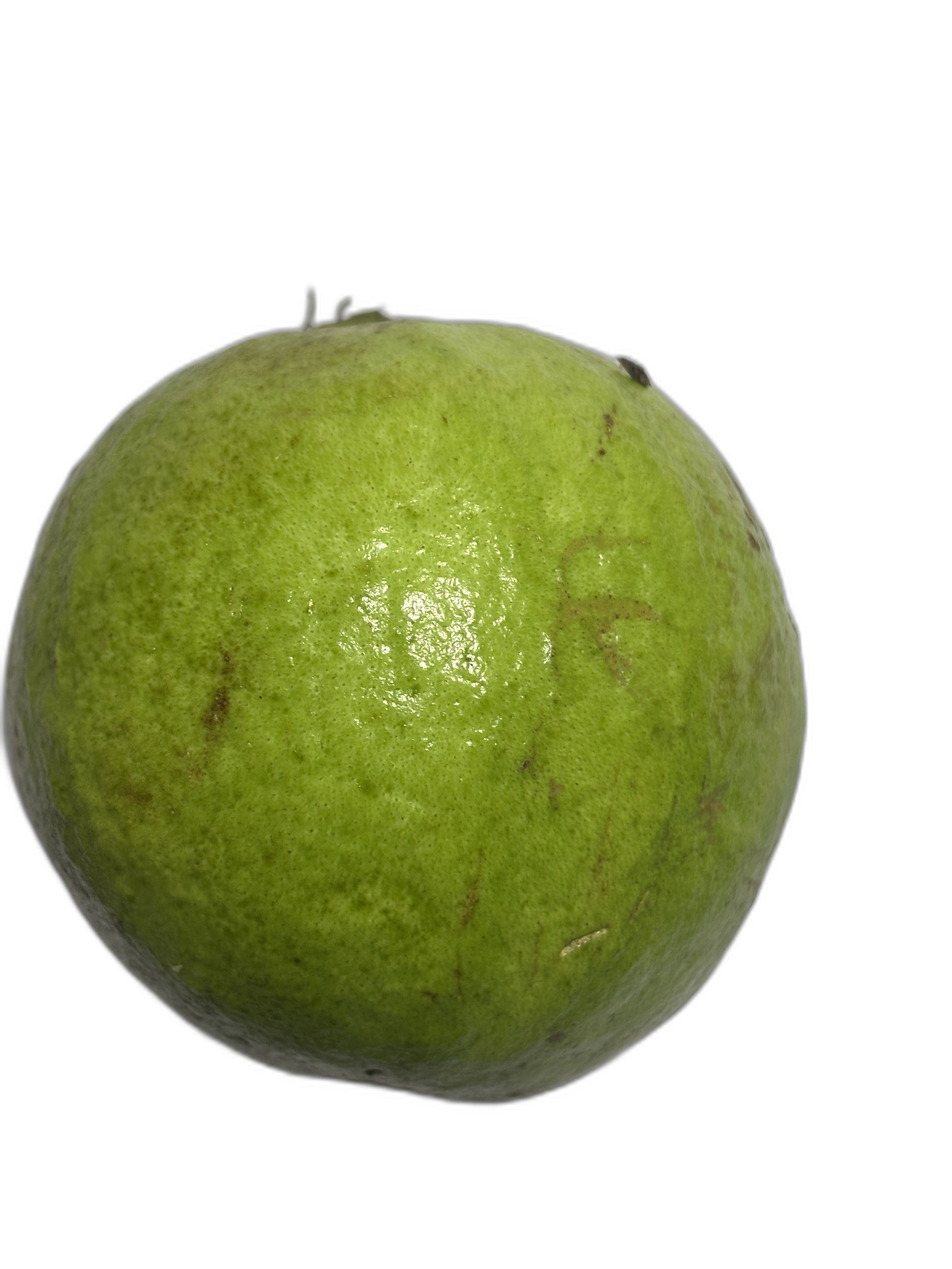guava: (96, 326, 932, 1185)
